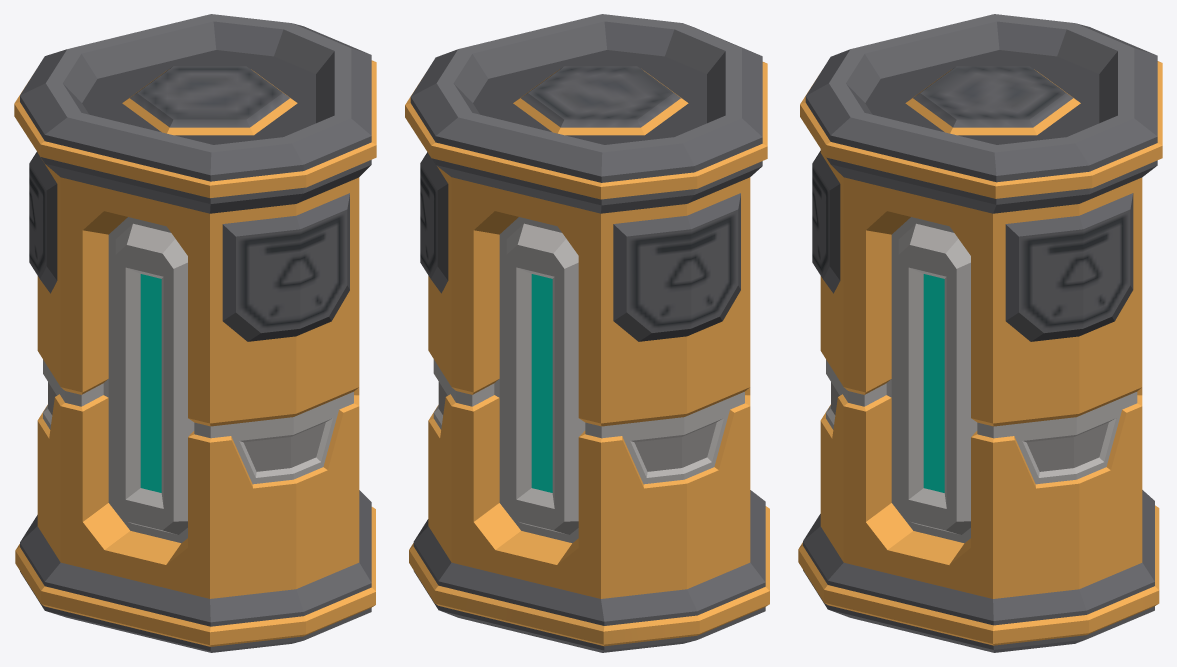
File: SM_Prop_Crate_08.fbx
3 views of the same model, side by side, from view 1: azimuth 30°, elevation 25°; view 2: azimuth 150°, elevation 25°; view 3: azimuth 270°, elevation 25° (orthographic).
Visible parts, largest first — view 1: SM_Prop_Crate_08; view 2: SM_Prop_Crate_08; view 3: SM_Prop_Crate_08.
Part boxes in pixels (x1,y1,x2,y2): SM_Prop_Crate_08: (14, 14, 376, 652); SM_Prop_Crate_08: (405, 14, 769, 652); SM_Prop_Crate_08: (798, 14, 1162, 652).
Bounding box in the file's own units: 83.05 × 118 × 77.72.
